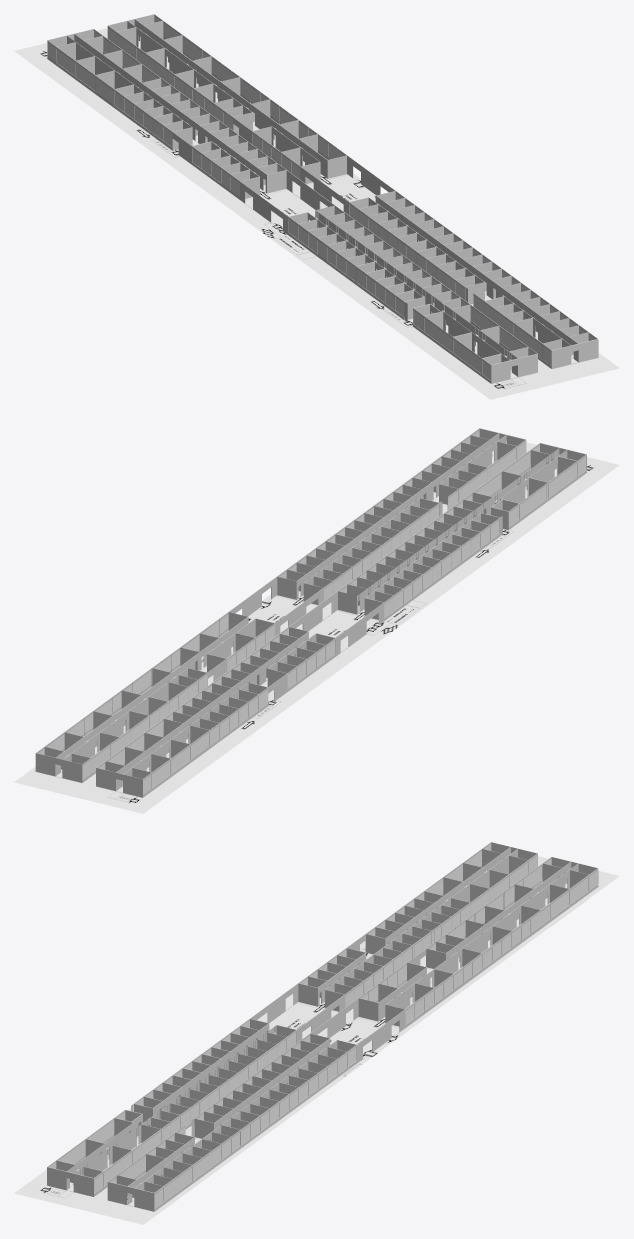
The picture shows the model from 3 angles, top to bottom: view 1: azimuth 30°, elevation 25°; view 2: azimuth 150°, elevation 25°; view 3: azimuth 330°, elevation 25°; orthographic projection.
Parts seen in each view (by area): view 1: Plane, Plane.002, Screenshot from 2023-01-05 18-33-55, Plane.001; view 2: Plane, Plane.002, Screenshot from 2023-01-05 18-33-55, Plane.001; view 3: Plane, Plane.002, Screenshot from 2023-01-05 18-33-55, Plane.001.
Boxes of the visible parts, x1,y1,x2,y2 form: Plane: [47, 29, 537, 383]; Plane.002: [117, 19, 588, 361]; Screenshot from 2023-01-05 18-33-55: [14, 28, 619, 399]; Plane.001: [107, 14, 598, 368]; Plane: [96, 443, 586, 797]; Plane.002: [44, 433, 516, 775]; Screenshot from 2023-01-05 18-33-55: [14, 441, 619, 813]; Plane.001: [35, 428, 526, 782]; Plane: [47, 842, 537, 1196]; Plane.002: [117, 862, 588, 1204]; Screenshot from 2023-01-05 18-33-55: [14, 856, 619, 1224]; Plane.001: [107, 857, 598, 1211].
Bounding box in the file's own units: 120 × 17.46 × 766.
532 materials, 1 textured.
